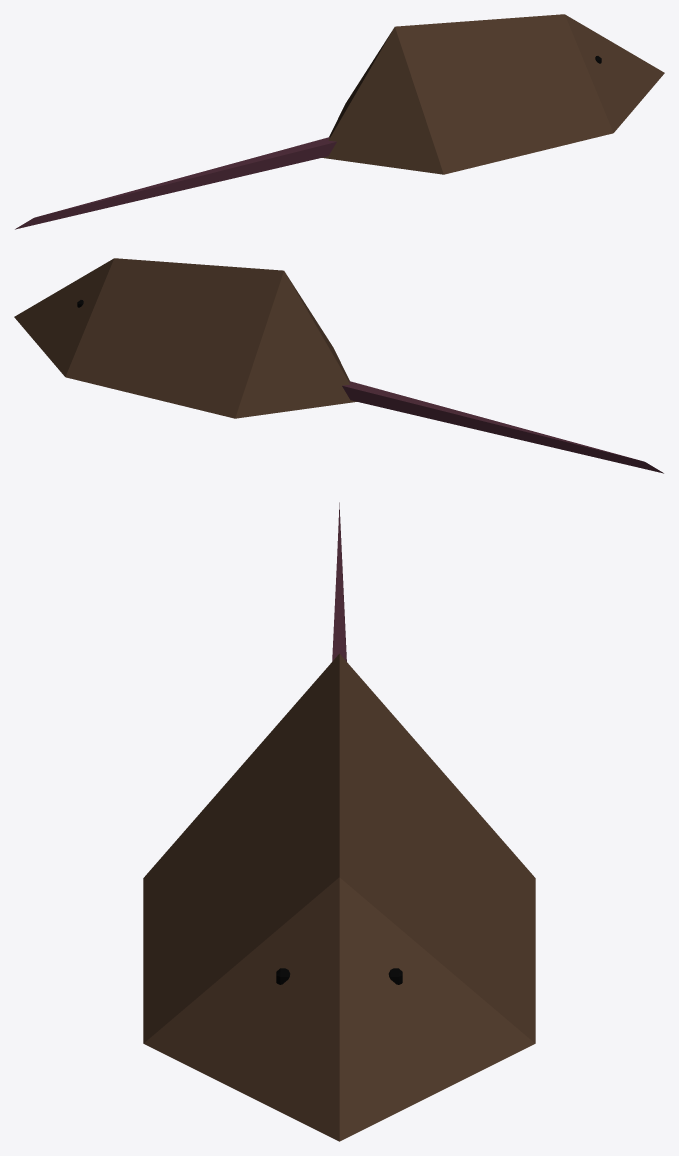
File: Spin_Rat.glb
3 views of the same model, one above another, from view 1: azimuth 30°, elevation 25°; view 2: azimuth 150°, elevation 25°; view 3: azimuth 270°, elevation 25° (orthographic). The views are drawn at different scales.
Parts seen in each view (by area): view 1: Cube; view 2: Cube; view 3: Cube.
Boxes of the visible parts, box(x1,y1,x2,y2) form: Cube: box(15, 14, 664, 229); Cube: box(14, 258, 663, 473); Cube: box(143, 502, 535, 1141).
Bounding box in the file's own units: 7.67 × 1.26 × 2.
